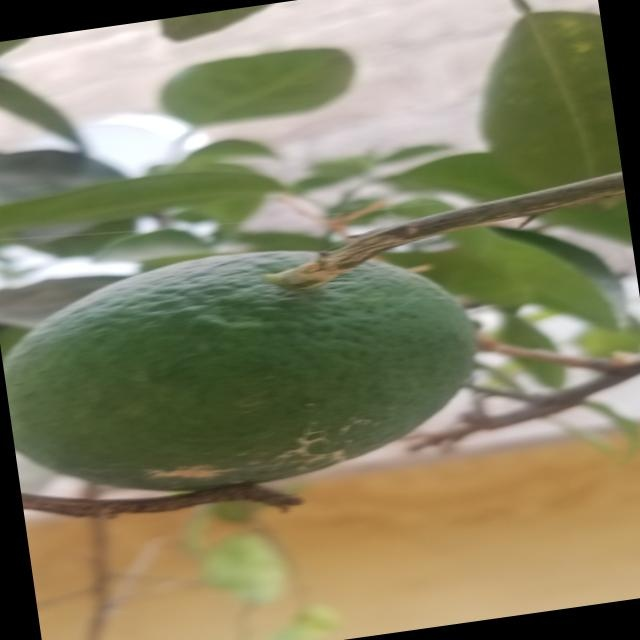agrume: (0, 209, 512, 558)
